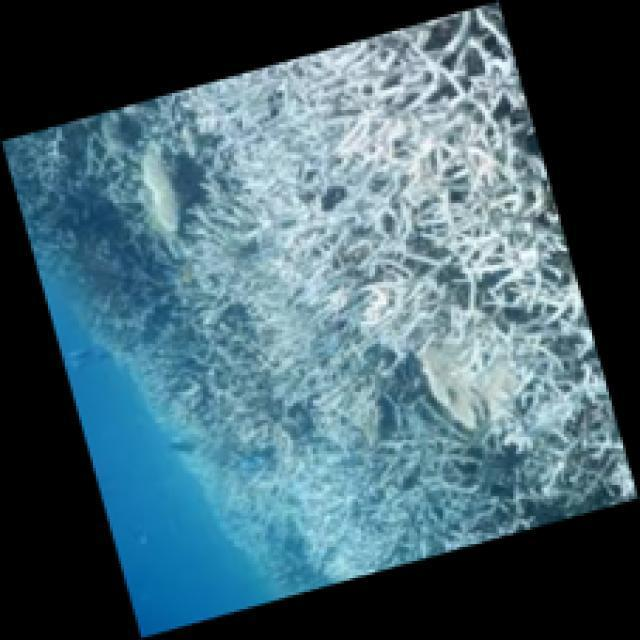Bleached: (147, 3, 640, 558)
